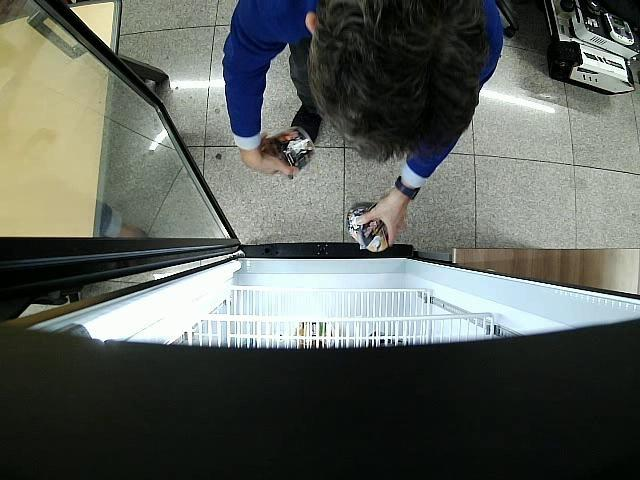07_buldak_L: (262, 127, 316, 179), (347, 200, 389, 252)
